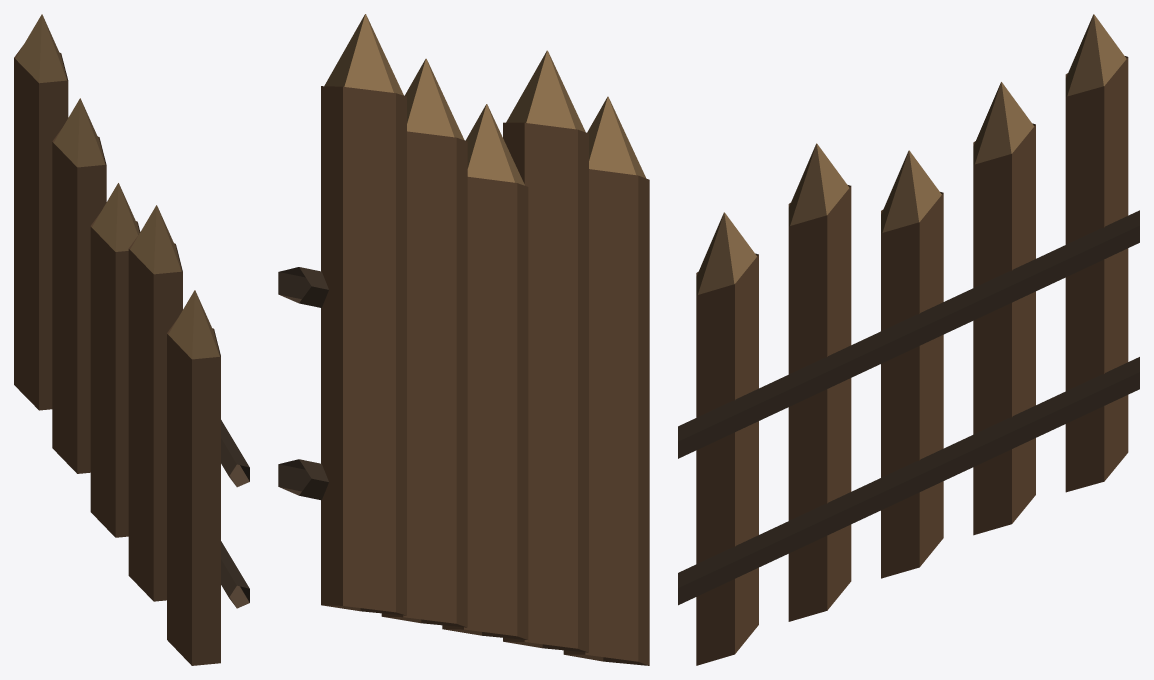
3 renders of one model, left to right at view 1: azimuth 30°, elevation 25°; view 2: azimuth 150°, elevation 25°; view 3: azimuth 270°, elevation 25°, orthographic. The views are drawn at different scales.
Parts seen in each view (by area): view 1: 0c69b75df96ce28d9eef68700fa7bb413423381240214d05bc6c2b555384; view 2: 0c69b75df96ce28d9eef68700fa7bb413423381240214d05bc6c2b555384; view 3: 0c69b75df96ce28d9eef68700fa7bb413423381240214d05bc6c2b555384.
Part boxes in pixels (x1,y1,x2,y2): 0c69b75df96ce28d9eef68700fa7bb413423381240214d05bc6c2b555384: [14, 14, 249, 665]; 0c69b75df96ce28d9eef68700fa7bb413423381240214d05bc6c2b555384: [278, 14, 649, 665]; 0c69b75df96ce28d9eef68700fa7bb413423381240214d05bc6c2b555384: [678, 14, 1139, 665].
Size of the model in its own units: 0.3593 by 3.07 by 2.
Materials: 1 (1 with a texture image).
